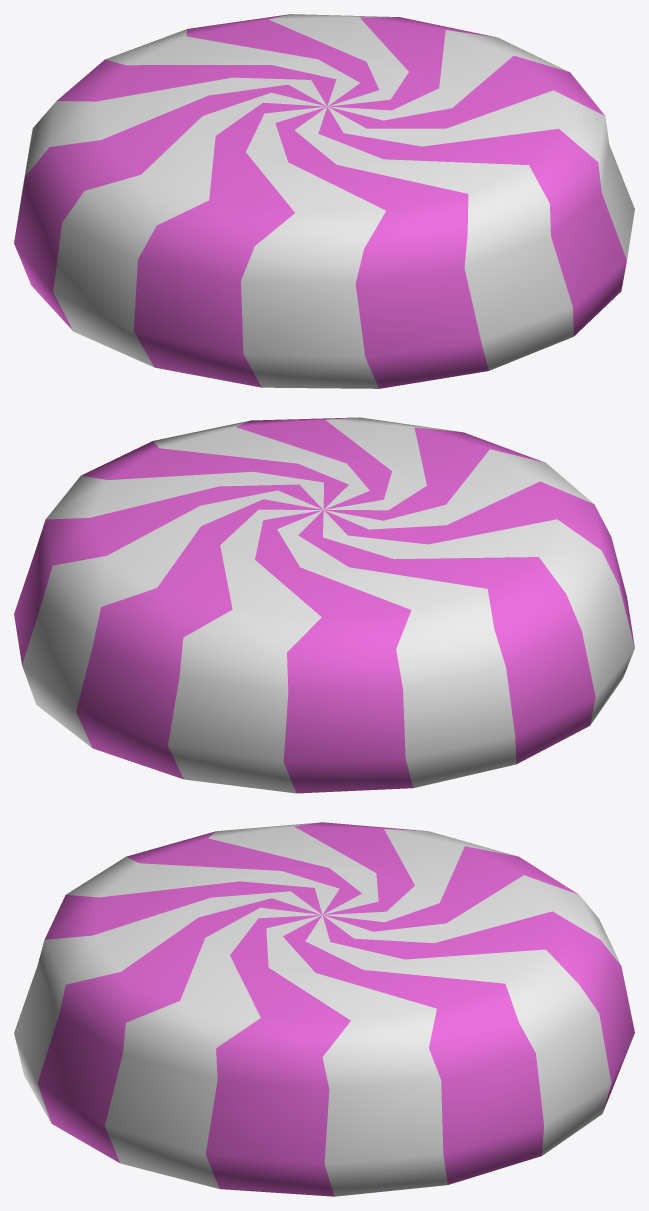
Rendered from candystone.fbx.
The picture shows the model from 3 angles, top to bottom: view 1: azimuth 30°, elevation 25°; view 2: azimuth 150°, elevation 25°; view 3: azimuth 270°, elevation 25°; orthographic projection.
Visible parts, largest first — view 1: Circle; view 2: Circle; view 3: Circle.
Boxes of the visible parts, x1,y1,x2,y2 form: Circle: (14,14,634,388); Circle: (14,417,634,793); Circle: (14,822,634,1196).
Bounding box in the file's own units: 184 × 57.93 × 184.
